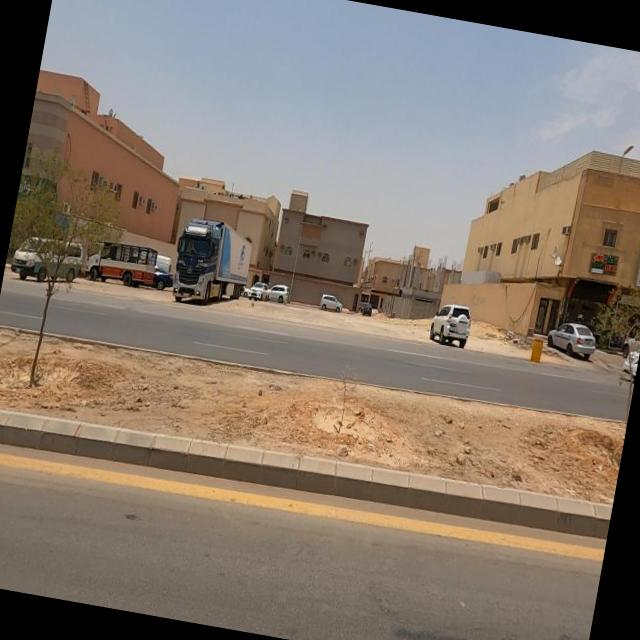debris: (480, 296, 544, 386)
